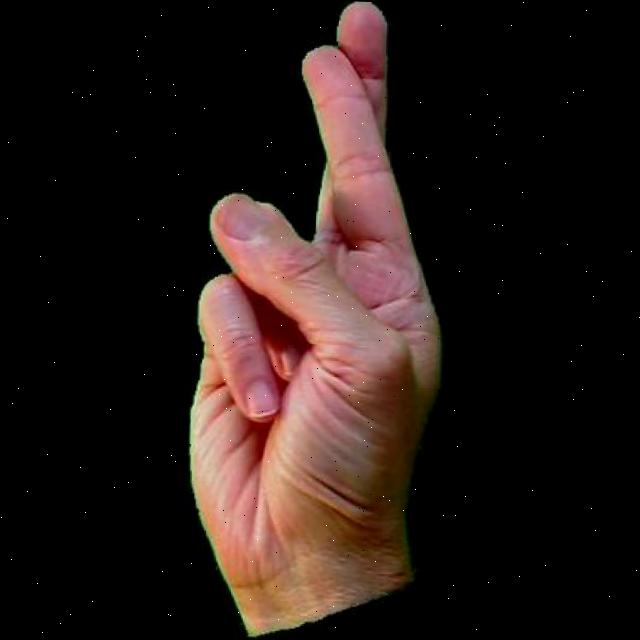r: (165, 0, 470, 640)
